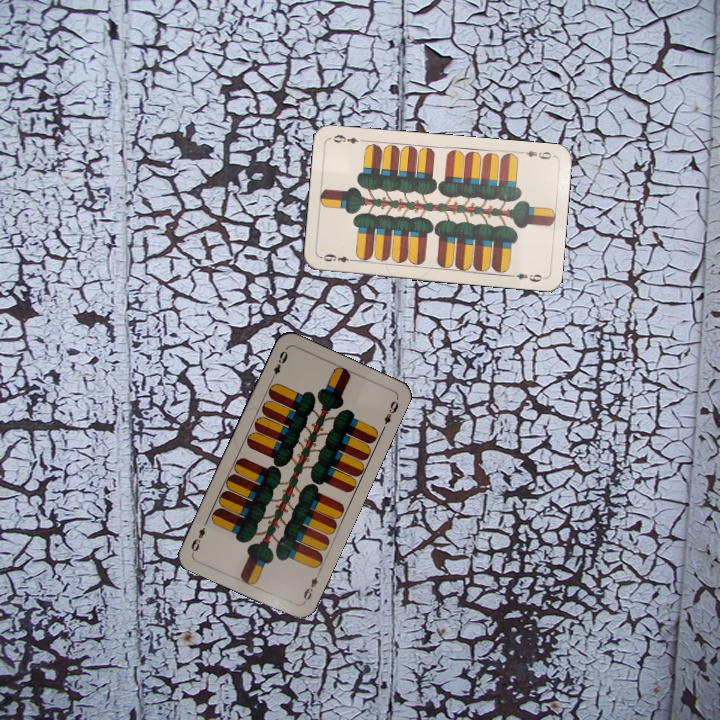E9: (299, 567, 323, 605), (267, 345, 290, 384), (516, 146, 556, 162), (318, 250, 358, 265)
